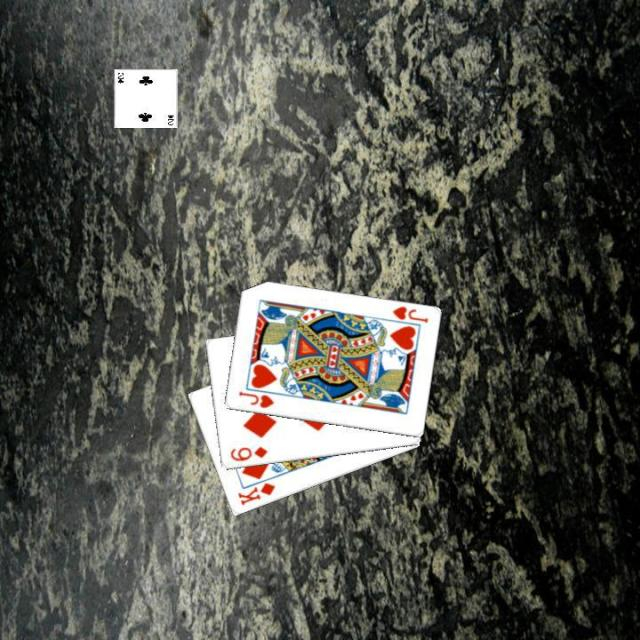6D: (226, 443, 269, 463)
JH: (234, 388, 276, 410), (388, 302, 429, 324)
KD: (234, 479, 277, 508)
